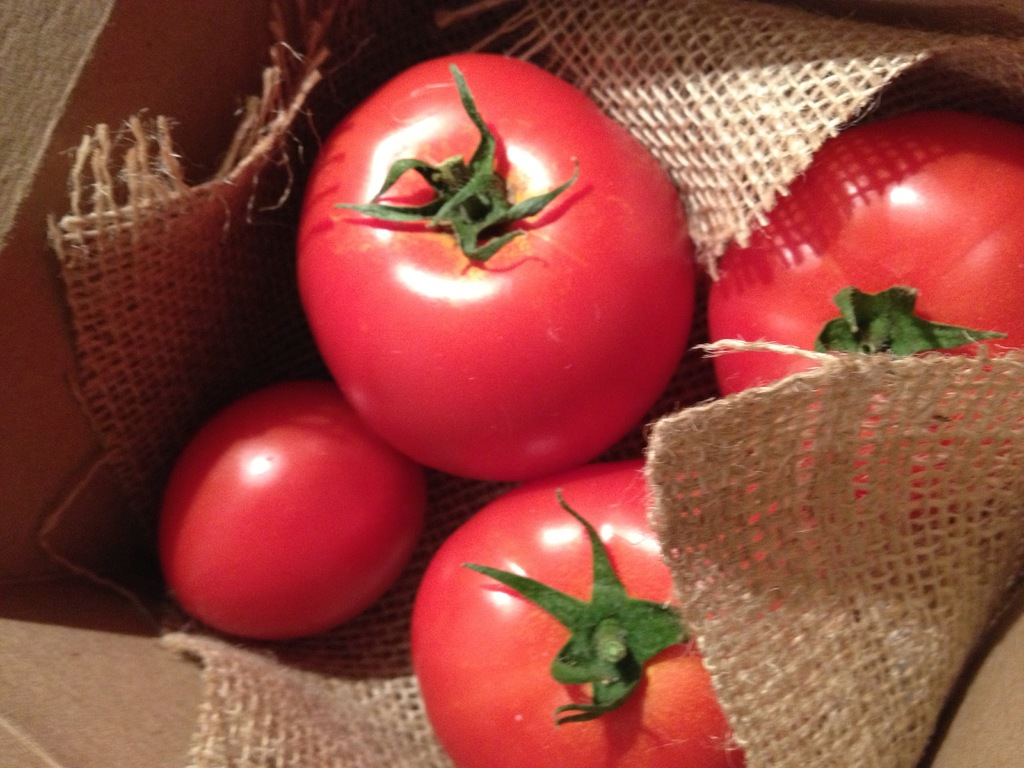Tomato: (294, 54, 687, 481), (410, 462, 759, 767), (703, 104, 1019, 392), (159, 379, 434, 650)
